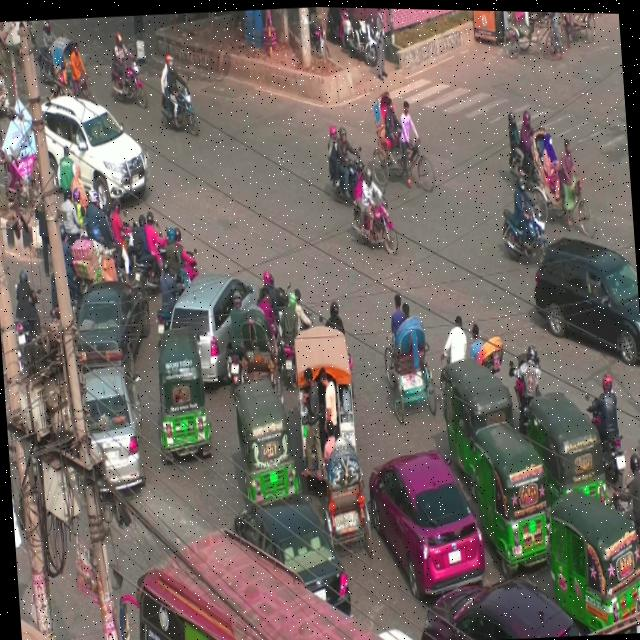cng: (523, 390, 632, 528), (461, 432, 562, 566), (541, 490, 640, 625), (429, 338, 514, 478), (222, 365, 302, 505), (157, 326, 219, 480)
rikshaw: (376, 279, 440, 420), (530, 107, 596, 238), (324, 407, 378, 566), (367, 74, 435, 193), (228, 275, 284, 387)
